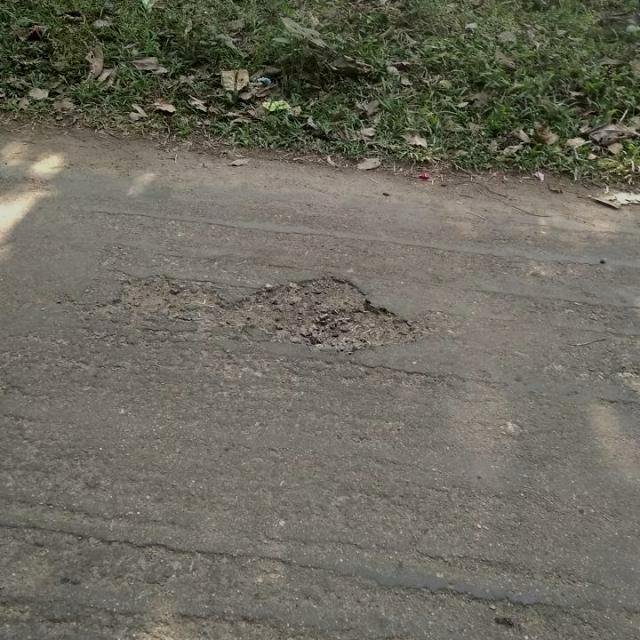Pothole: (108, 268, 427, 352)
